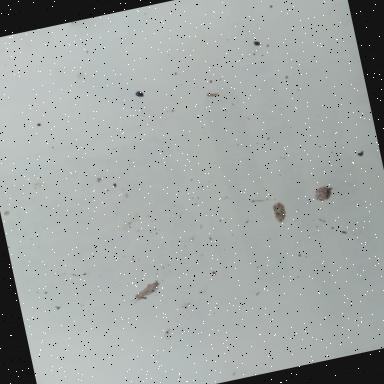pbw: (127, 278, 164, 304), (272, 200, 288, 222)
